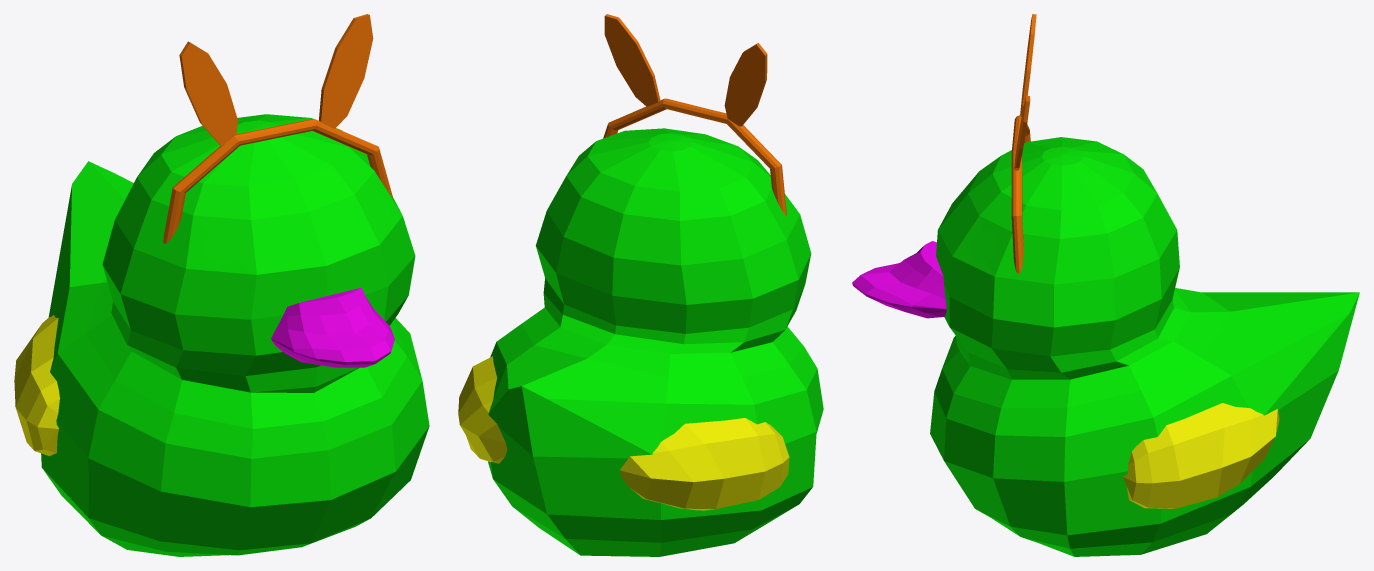
The model's file is rubber_duck_05.fbx.
3 views of the same model, side by side, from view 1: azimuth 30°, elevation 25°; view 2: azimuth 150°, elevation 25°; view 3: azimuth 270°, elevation 25° (orthographic). The views are drawn at different scales.
Visible parts, largest first — view 1: rubber_duck_05; view 2: rubber_duck_05; view 3: rubber_duck_05.
Boxes of the visible parts, x1,y1,x2,y2 form: rubber_duck_05: (14,14,429,556); rubber_duck_05: (458,14,823,556); rubber_duck_05: (852,14,1359,556).
Bounding box in the file's own units: 5.8 × 8 × 8.09.
